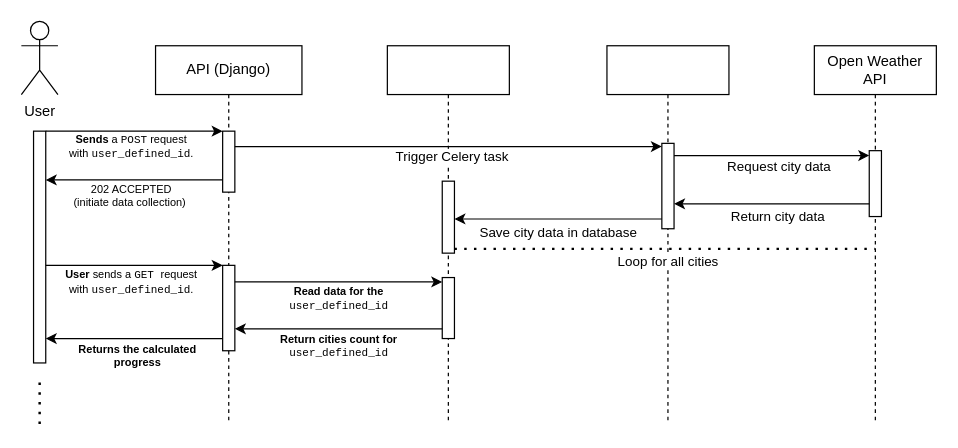
This 958x448 diagram has some shape labels left out. The shapes that lost their labels are listed below. From the top down, each one's box as (x1, y1, x2, y2) in pixels, then its label:
(386, 45, 509, 424): Database (SQLite3)
(606, 45, 729, 424): Celery
